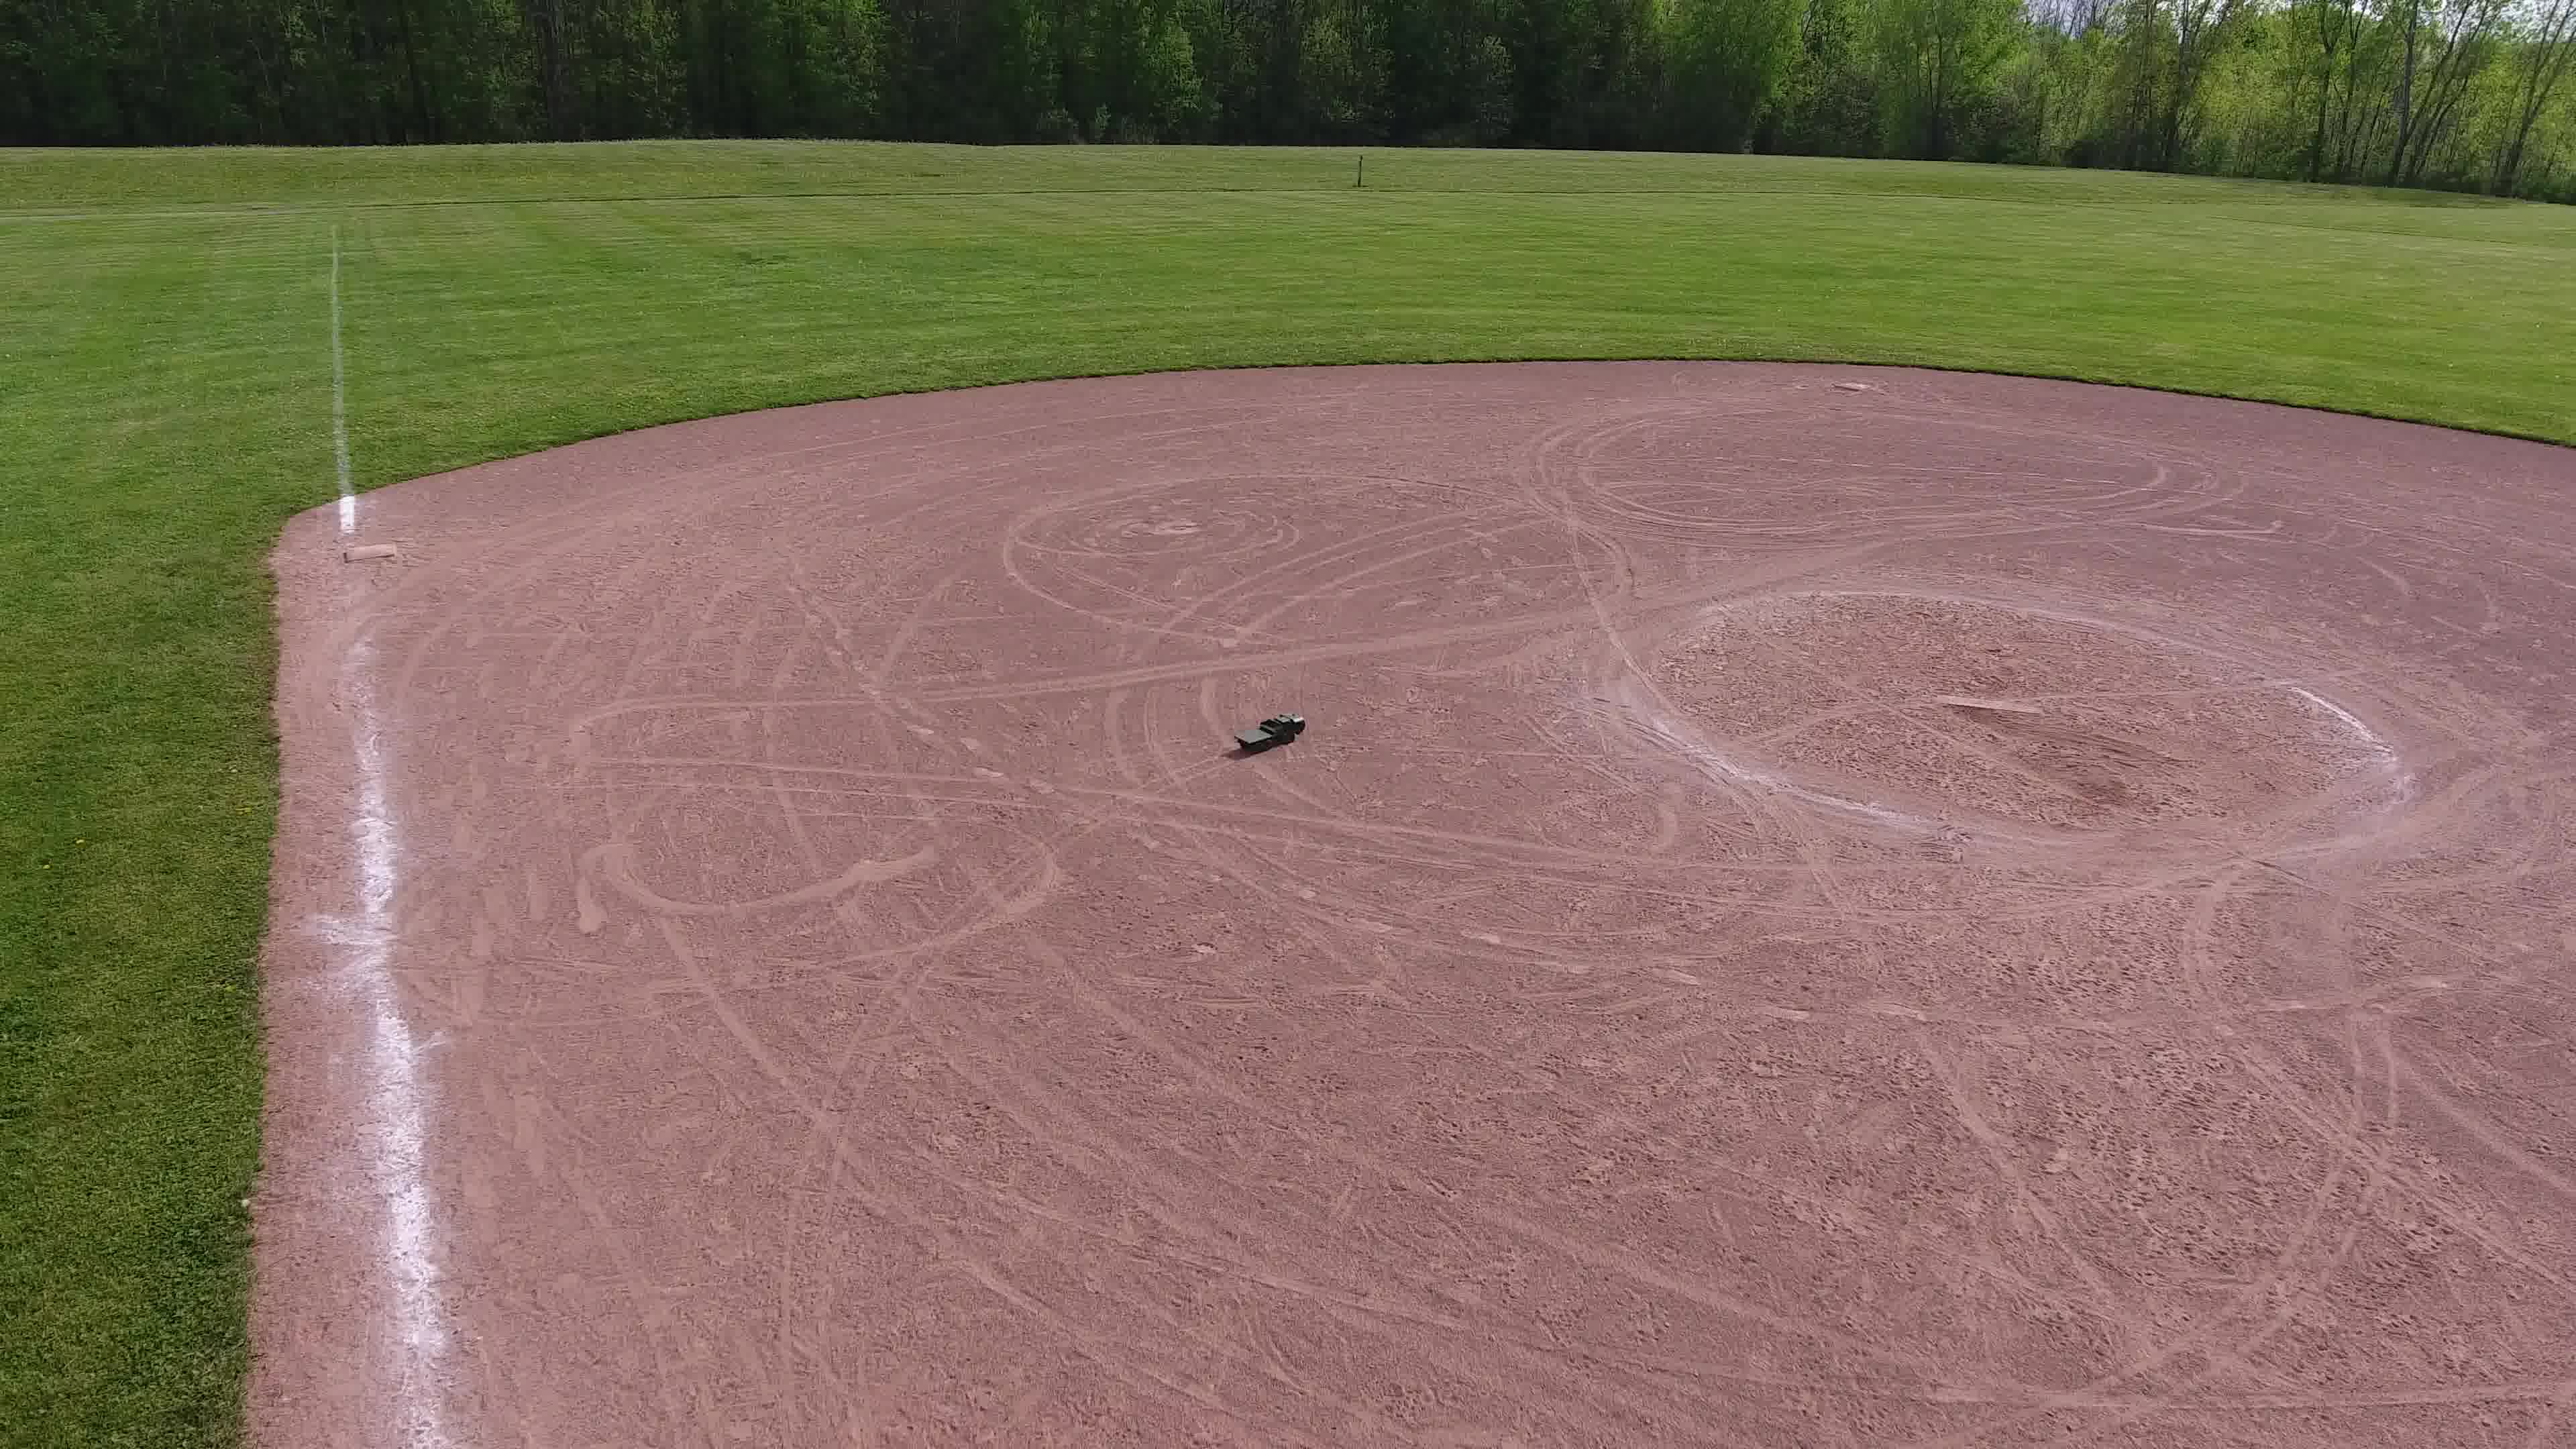transporter9: (1228, 709, 1309, 754)
